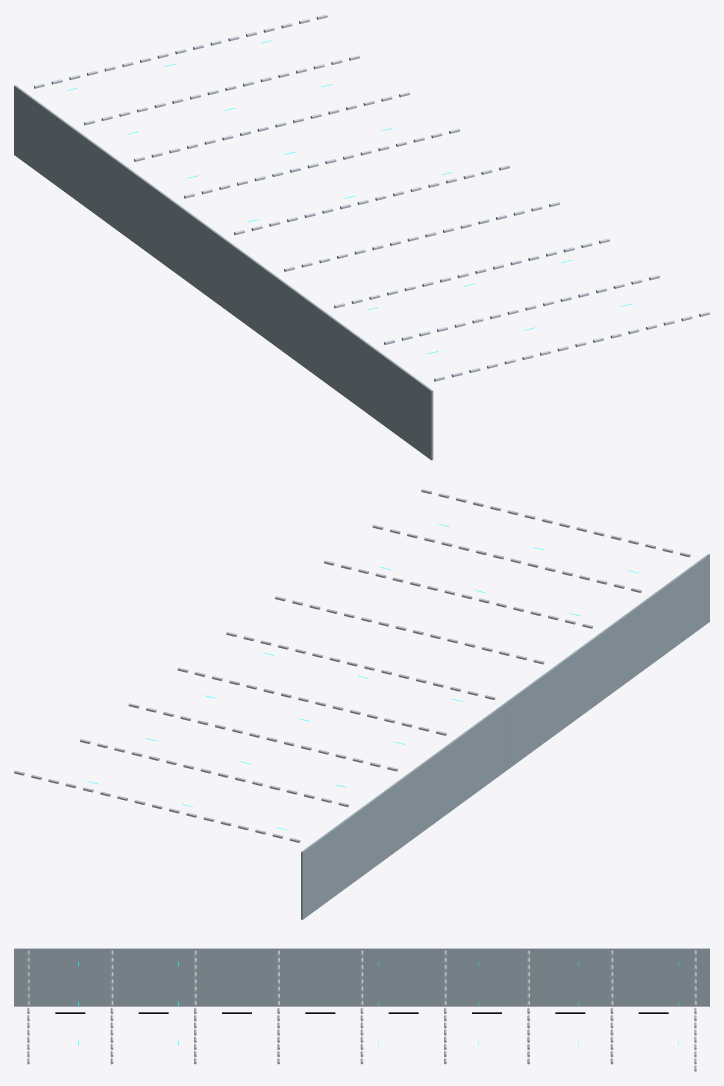
File: tt_pool_lap_tank_a.glb
3 views of the same model, one above another, from view 1: azimuth 30°, elevation 25°; view 2: azimuth 150°, elevation 25°; view 3: azimuth 270°, elevation 25° (orthographic). The views are drawn at different scales.
Visible parts, largest first — view 1: Tank_Ends, Lane_Floats; view 2: Tank_Ends, Lane_Floats; view 3: Tank_Ends, Lane_Floats, Lane_EndT.
Part boxes in pixels (x1,y1,x2,y2): Tank_Ends: [14, 85, 433, 460]; Lane_Floats: [34, 14, 709, 381]; Tank_Ends: [301, 554, 709, 919]; Lane_Floats: [14, 489, 690, 842]; Tank_Ends: [14, 948, 709, 1006]; Lane_Floats: [27, 950, 696, 1071]; Lane_EndT: [55, 1012, 668, 1013].
Size of what is drawn, in the model's own units: 8.78 by 2 by 20.87.
Materials: 4 (3 with a texture image).
